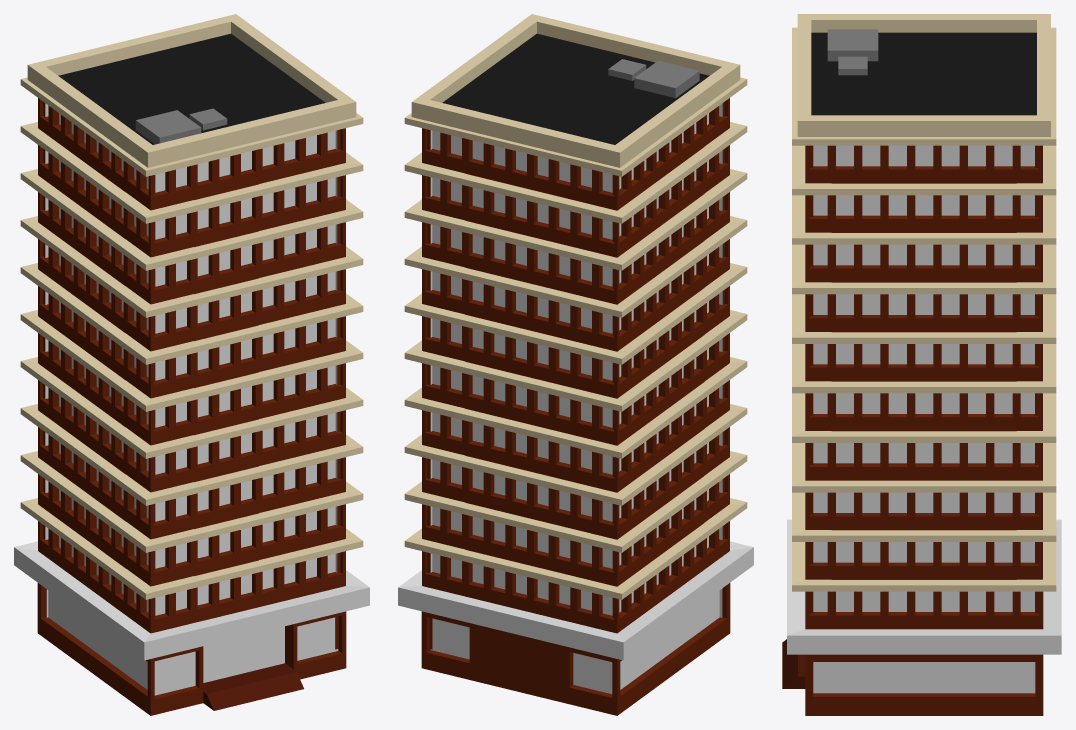
Rendered from Building2.fbx.
3 renders of one model, left to right at view 1: azimuth 30°, elevation 25°; view 2: azimuth 150°, elevation 25°; view 3: azimuth 270°, elevation 25°, orthographic. The views are drawn at different scales.
Parts seen in each view (by area): view 1: Building, Roof, Base; view 2: Building, Roof, Base; view 3: Building, Roof, Base.
Part boxes in pixels (x1,y1,x2,y2): Building: (20,77,363,633); Roof: (27,14,356,167); Base: (14,541,369,715); Building: (404,77,747,633); Roof: (411,14,740,167); Base: (398,541,753,715); Building: (792,27,1056,628); Roof: (797,14,1050,136); Base: (782,519,1061,715).
Size of the model in its own units: 854 by 2053 by 868.
